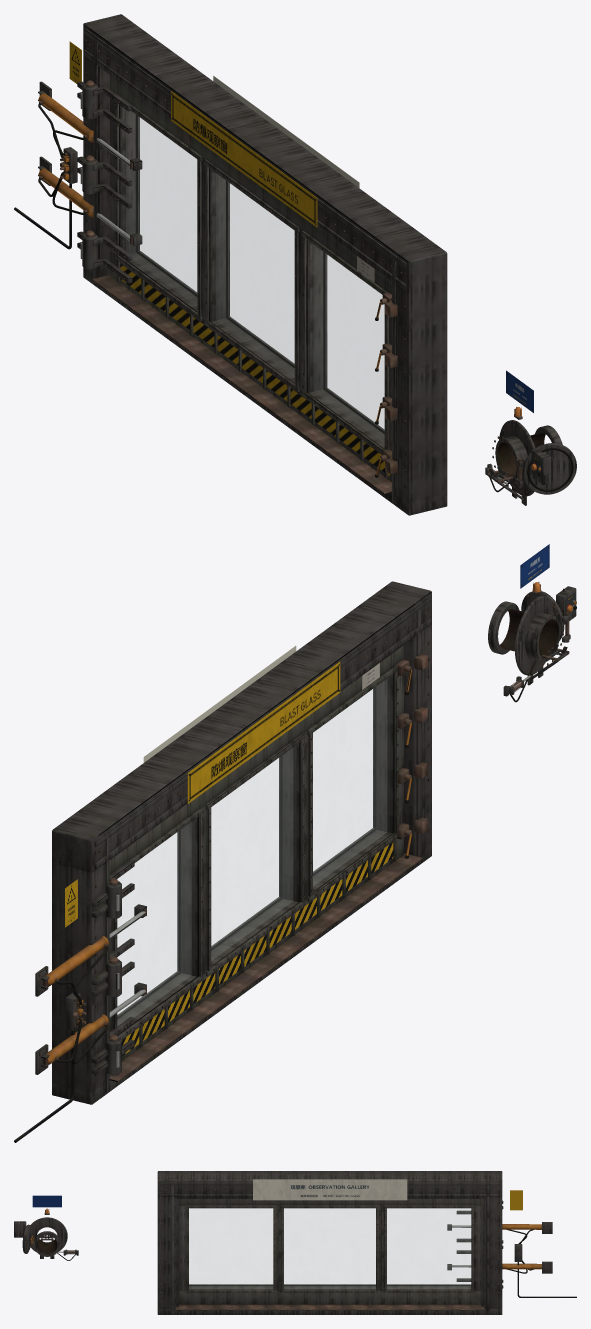
File: glass-blast-door.glb
3 views of the same model, one above another, from view 1: azimuth 30°, elevation 25°; view 2: azimuth 150°, elevation 25°; view 3: azimuth 270°, elevation 25° (orthographic). The views are drawn at different scales.
Visible parts, largest first — view 1: blast-door, glass, stencils, pipe-intake; view 2: blast-door, glass, stencils, pipe-intake; view 3: blast-door, glass, stencils, pipe-intake.
Boxes of the visible parts, left/top/right/bottom form: blast-door: left=14, top=14, right=532, bottom=515; glass: left=126, top=110, right=384, bottom=442; stencils: left=69, top=41, right=542, bottom=480; pipe-intake: left=485, top=407, right=576, bottom=505; blast-door: left=14, top=546, right=548, bottom=1142; glass: left=117, top=679, right=386, bottom=1025; stencils: left=65, top=544, right=576, bottom=1056; pipe-intake: left=488, top=582, right=576, bottom=702; blast-door: left=157, top=1171, right=576, bottom=1314; glass: left=189, top=1208, right=470, bottom=1288; stencils: left=32, top=1179, right=522, bottom=1210; pipe-intake: left=14, top=1208, right=78, bottom=1260.
Size of the model in its own units: 1.51 by 5.85 by 21.89.
Materials: 4 (4 with a texture image).
